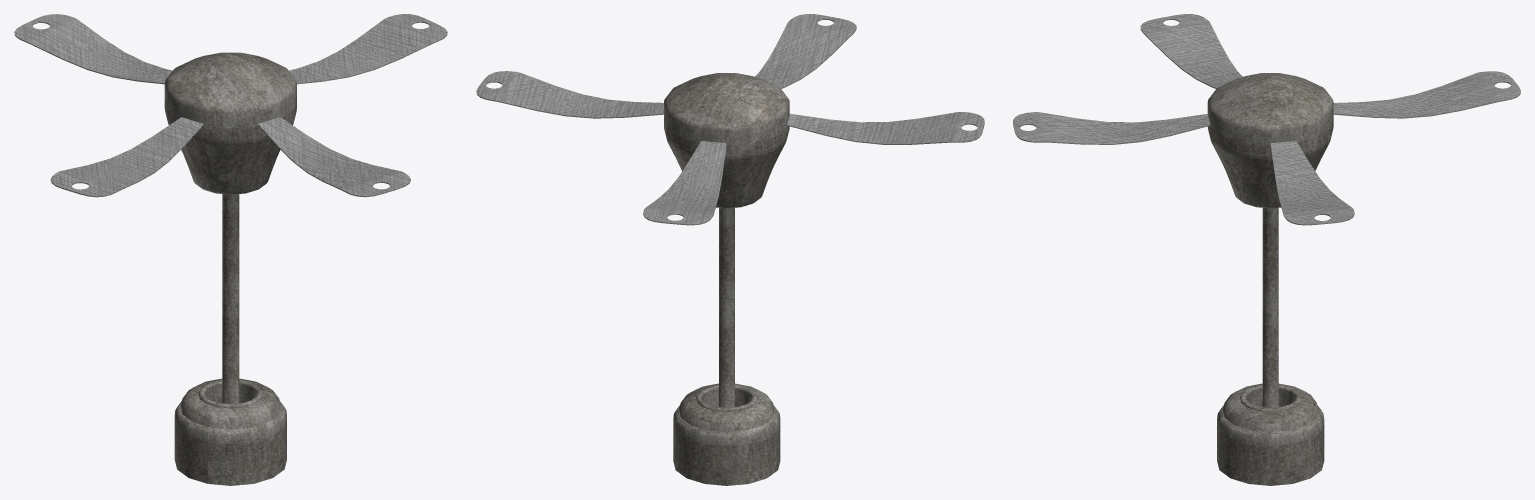
Rendered from CeilingFan.FBX.
3 renders of one model, left to right at view 1: azimuth 30°, elevation 25°; view 2: azimuth 150°, elevation 25°; view 3: azimuth 270°, elevation 25°, orthographic. The views are drawn at different scales.
Parts seen in each view (by area): view 1: Fan, Top; view 2: Fan, Top; view 3: Fan, Top.
Boxes of the visible parts, box(x1,y1,x2,y2) form: Fan: box(14, 14, 447, 403); Top: box(174, 378, 286, 485); Fan: box(476, 14, 984, 407); Top: box(673, 383, 780, 485); Fan: box(1013, 14, 1520, 407); Top: box(1217, 383, 1324, 485).
Bounding box in the file's own units: 175 × 149 × 178.
